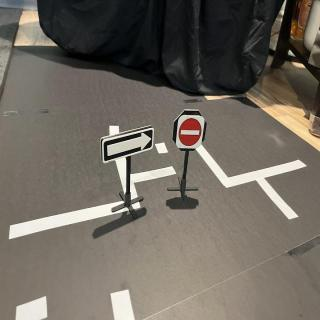sign_noentry: (175, 113, 207, 151)
sign_oneway_right: (101, 124, 155, 167)
